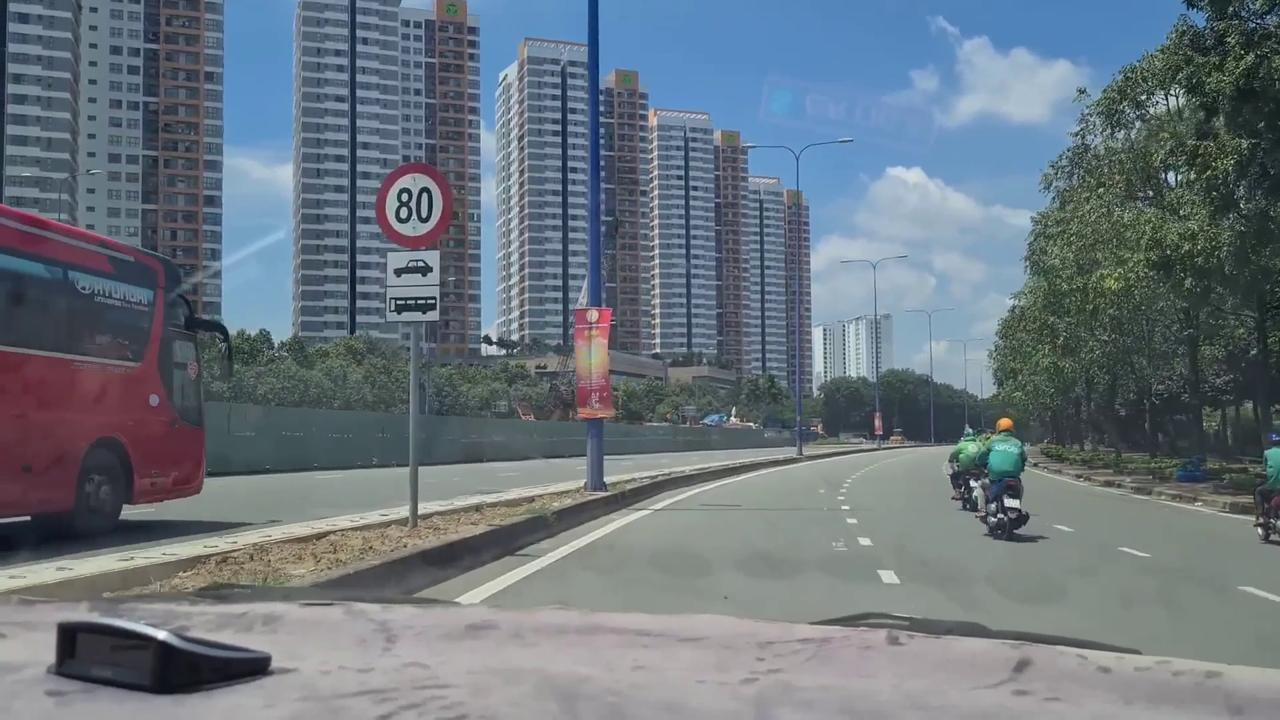Biển phụ: (384, 250, 441, 322)
Giới hạn tốc độ 80Km/h: (375, 162, 454, 249)
